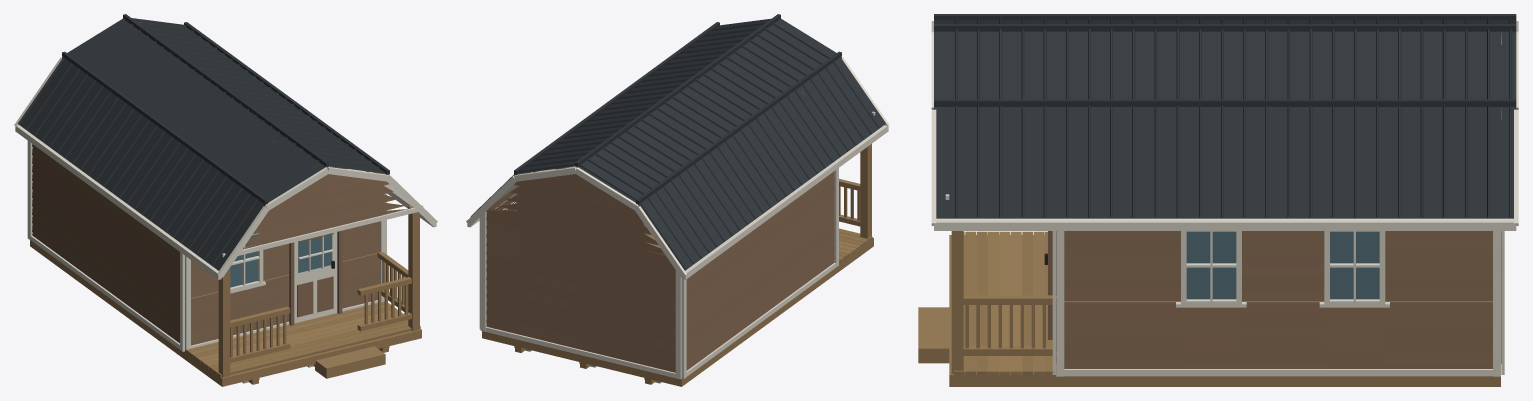
Rendered from 09-end-porch.glb.
3 views of the same model, side by side, from view 1: azimuth 30°, elevation 25°; view 2: azimuth 150°, elevation 25°; view 3: azimuth 270°, elevation 25° (orthographic). The views are drawn at different scales.
Visible parts, largest first — view 1: Main roof, left wall, Porch decking, columns and rails, front wall, front porch gable, front wall entry, Floor platform and skids, front wall window; view 2: Main roof, rear wall, left wall, Floor platform and skids, Porch decking, columns and rails, right wall; view 3: Main roof, right wall, Porch decking, columns and rails, right wall window, Floor platform and skids, front wall, rear wall, front wall entry.
Part boxes in pixels (x1=…): Main roof: x1=14, y1=14, x2=437, y2=279; left wall: x1=27, y1=141, x2=184, y2=351; Porch decking, columns and rails: x1=185, y1=205, x2=420, y2=378; front wall: x1=185, y1=141, x2=385, y2=351; front porch gable: x1=222, y1=165, x2=423, y2=257; front wall entry: x1=289, y1=230, x2=342, y2=325; Floor platform and skids: x1=30, y1=240, x2=421, y2=386; front wall window: x1=230, y1=233, x2=265, y2=293; Main roof: x1=466, y1=14, x2=889, y2=279; rear wall: x1=480, y1=163, x2=681, y2=379; left wall: x1=681, y1=168, x2=838, y2=378; Floor platform and skids: x1=482, y1=225, x2=873, y2=386; Porch decking, columns and rails: x1=839, y1=144, x2=872, y2=263; right wall: x1=479, y1=174, x2=572, y2=329; Main roof: x1=931, y1=14, x2=1518, y2=230; right wall: x1=1056, y1=231, x2=1500, y2=376; Porch decking, columns and rails: x1=918, y1=231, x2=1056, y2=374; right wall window: x1=1176, y1=231, x2=1389, y2=307; Floor platform and skids: x1=949, y1=235, x2=1500, y2=386; front wall: x1=1052, y1=231, x2=1056, y2=374; rear wall: x1=1501, y1=32, x2=1504, y2=374; front wall entry: x1=1044, y1=231, x2=1052, y2=339.
Bounding box in the file's own units: 4.01 × 3.68 × 6.64.
